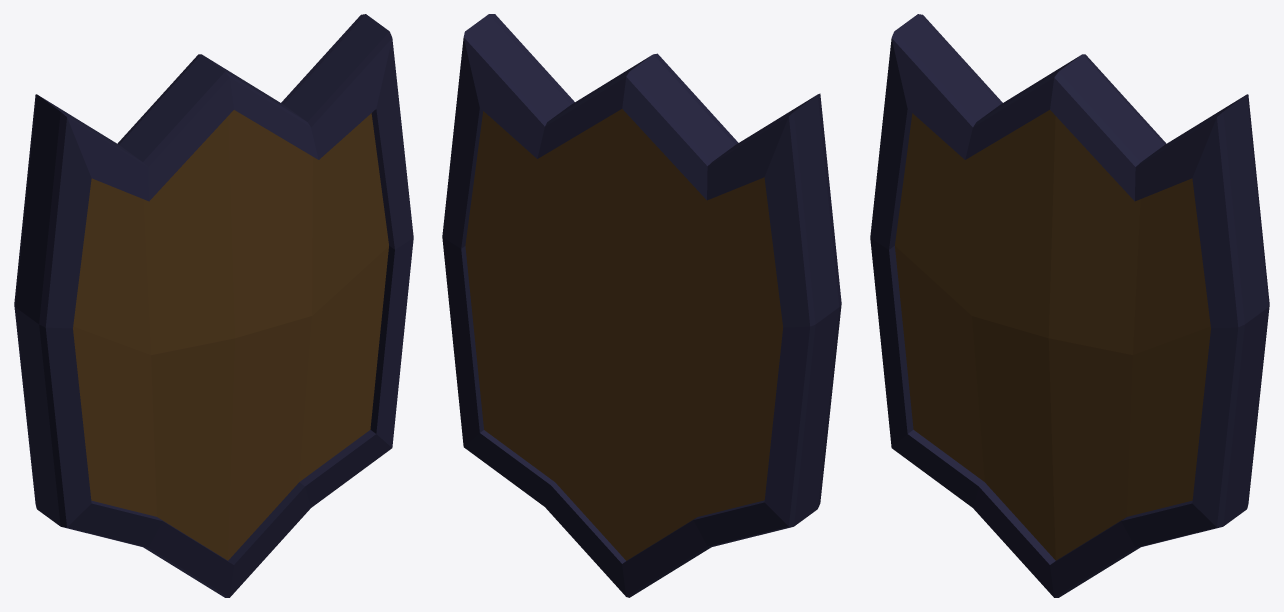
The model's file is Armor.fbx.
The picture shows the model from 3 angles, left to right: view 1: azimuth 30°, elevation 25°; view 2: azimuth 150°, elevation 25°; view 3: azimuth 330°, elevation 25°; orthographic projection.
Visible parts, largest first — view 1: Armor; view 2: Armor; view 3: Armor.
Boxes of the visible parts, box(x1,y1,x2,y2) form: Armor: box(14, 14, 413, 597); Armor: box(442, 14, 841, 597); Armor: box(870, 14, 1269, 597).
Size of the model in its own units: 262 by 353 by 49.95.
